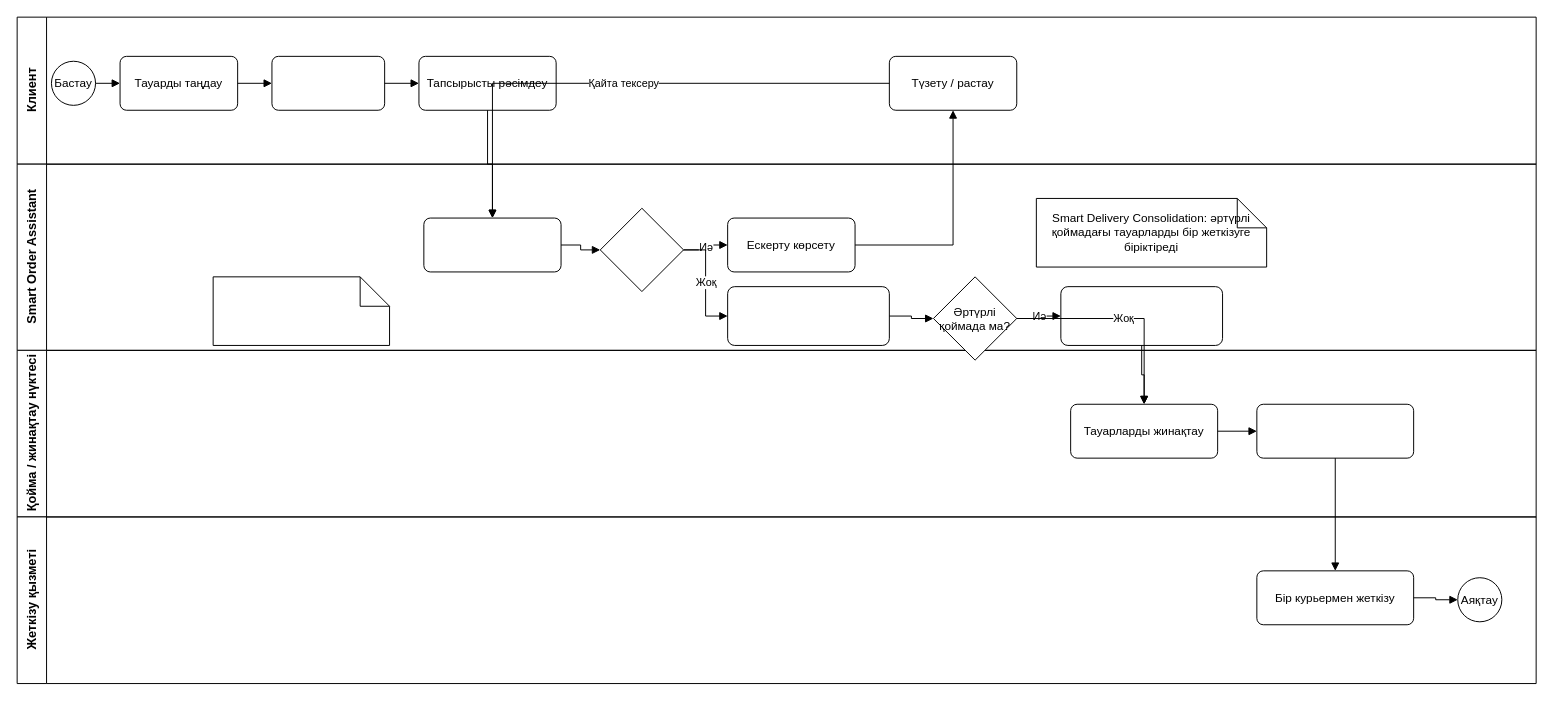
This 1553x701 diagram has some shape labels left out. Here are the shapes that lost their labels. From the top down, the centre of each, then its label:
At point (328, 82): "Себетке қосу".
At point (492, 244): "Smart Error Check".
At point (641, 249): "Қате / күмән бар ма?".
At point (301, 310): "Smart Error Check: қатені тапсырысқа дейін көрсетеді".
At point (808, 315): "Қоймаларды автоматты талдау".
At point (1141, 315): "Біріктіру жоспарын құру".
At point (1335, 430): "Бір жеткізуге дайындау".
